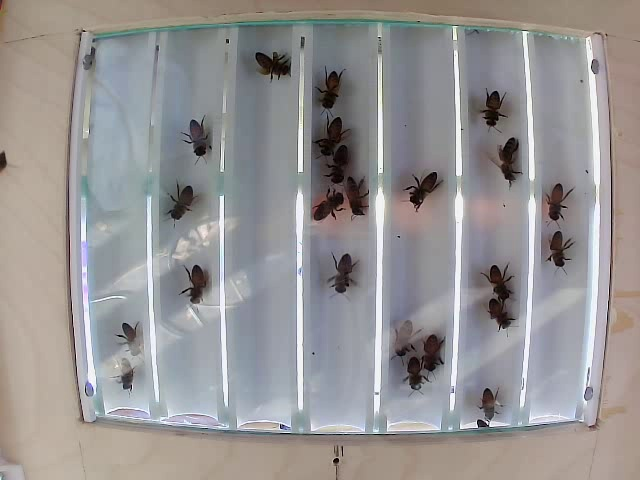bee: (324, 244, 359, 304), (184, 264, 214, 319), (540, 226, 576, 271), (315, 179, 346, 230), (310, 109, 345, 154), (474, 259, 516, 296), (117, 321, 153, 363), (342, 172, 370, 224), (545, 177, 571, 232), (482, 300, 521, 336), (114, 353, 141, 404), (494, 135, 518, 190), (316, 69, 347, 111), (326, 143, 356, 184), (412, 166, 437, 215), (396, 356, 429, 393), (473, 383, 504, 421), (423, 331, 447, 380), (391, 316, 419, 357), (190, 112, 213, 159), (258, 54, 288, 87), (485, 89, 505, 131), (173, 186, 200, 217)
